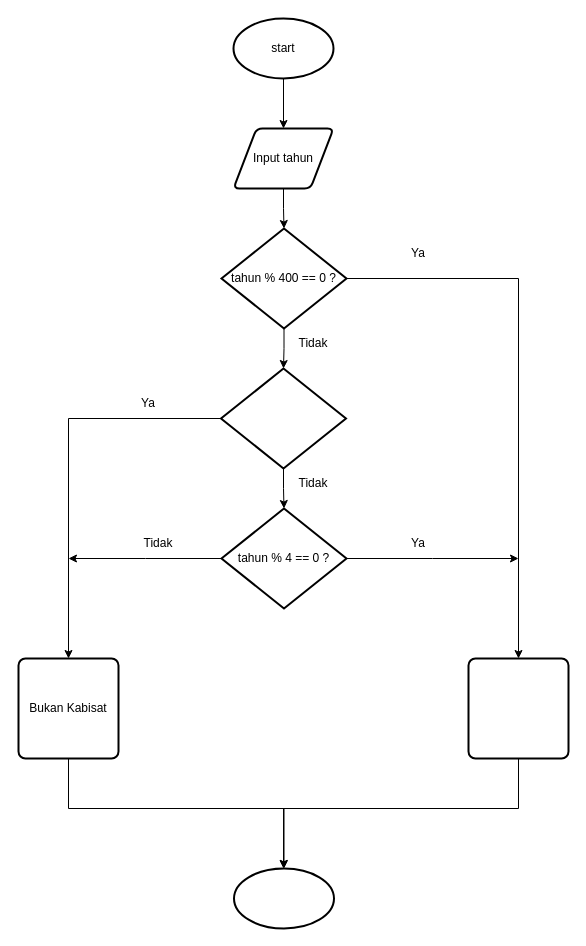
Image size: 586x946. Some labels were removed from this diagram. The shapes that lost their labels are listed below. From the top down, each one's centre as x and y in pixels, then its label:
At (x=283, y=418): "tahun % 100 == 0 ?".
At (x=518, y=708): "Kabisat".
At (x=283, y=898): "stop".
